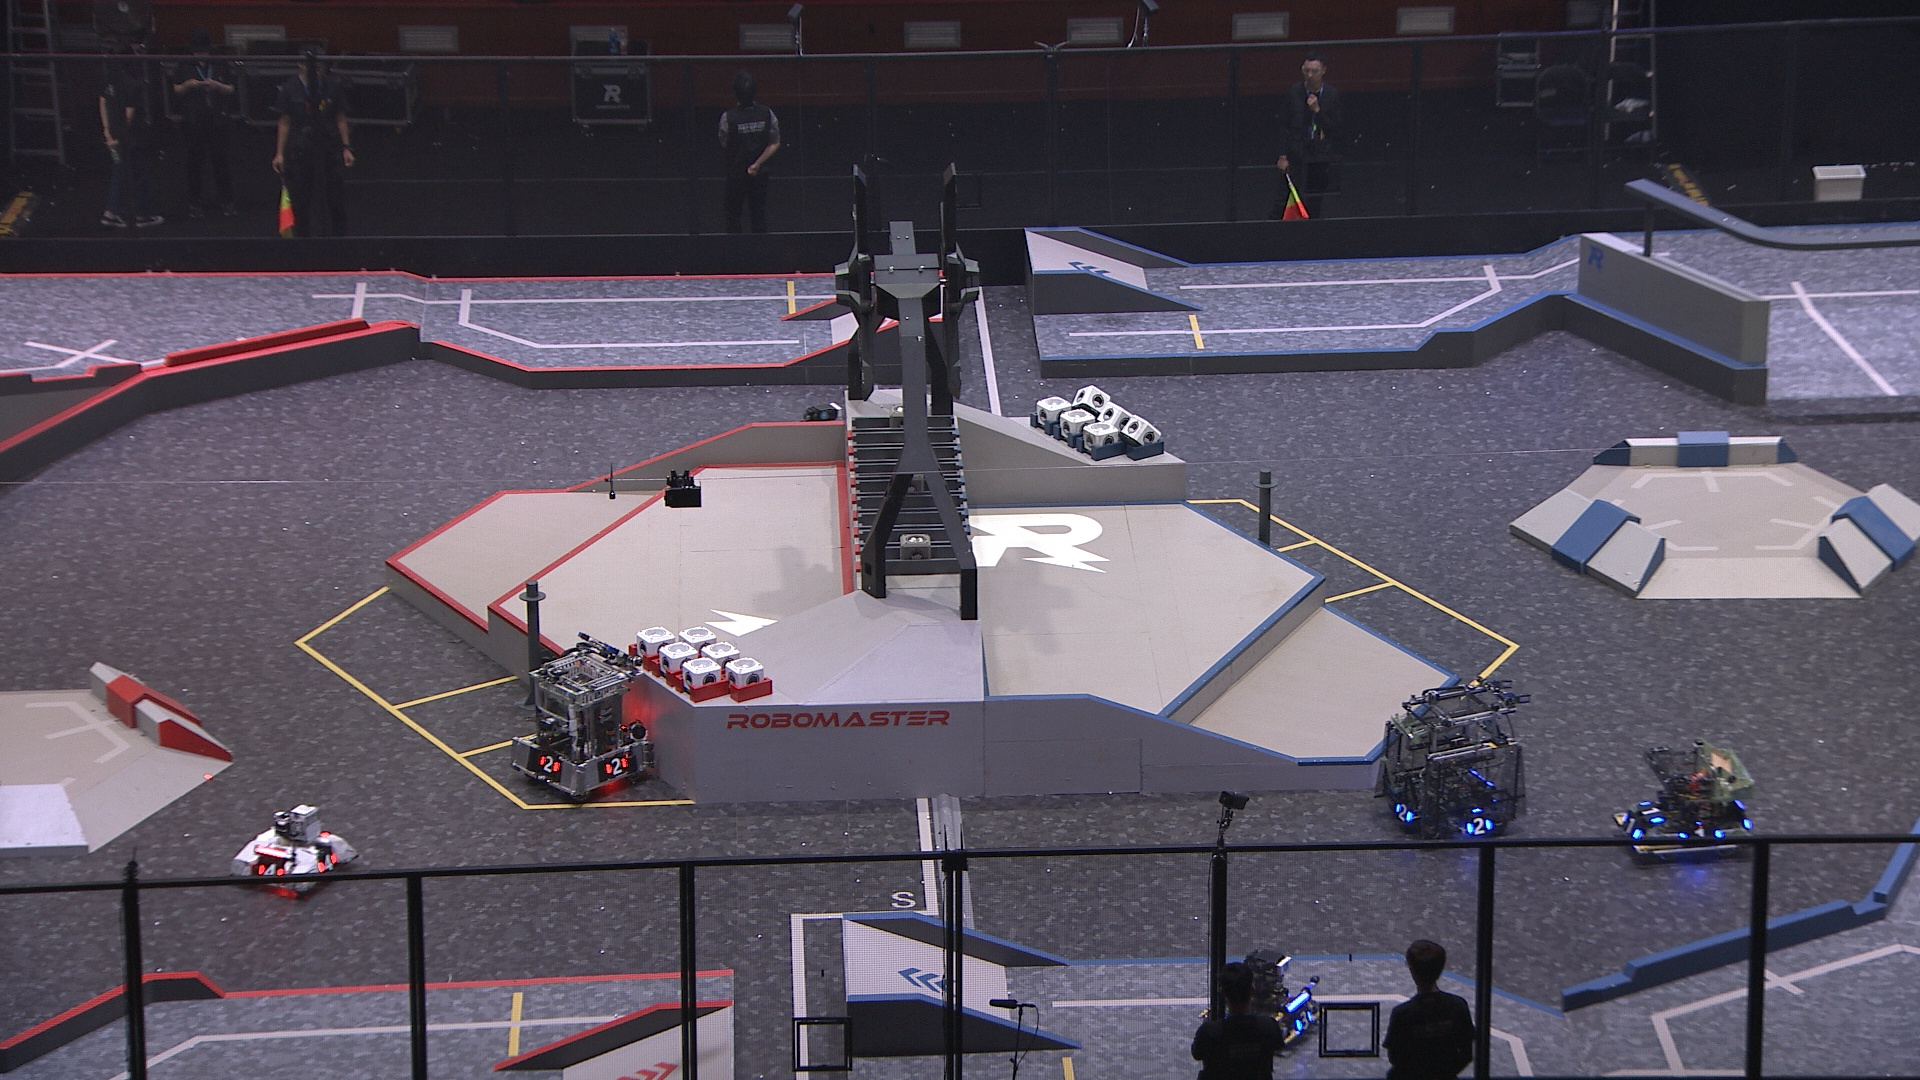armor: (1638, 799, 1665, 825), (535, 752, 562, 777), (1621, 812, 1643, 841), (604, 756, 629, 779), (315, 851, 340, 874), (1391, 802, 1416, 825), (1465, 818, 1495, 836), (1680, 827, 1724, 839), (256, 861, 286, 877), (1295, 1010, 1313, 1035)
car: (510, 644, 657, 802), (1381, 688, 1527, 844), (1613, 742, 1760, 864), (1197, 949, 1327, 1052), (231, 806, 363, 899)
